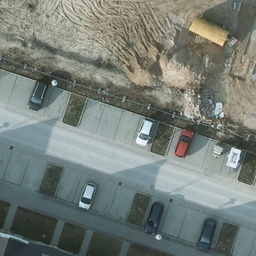car: (172, 127, 199, 159), (195, 217, 217, 252), (142, 204, 166, 235), (25, 83, 46, 112), (134, 116, 153, 145), (77, 181, 95, 211)
